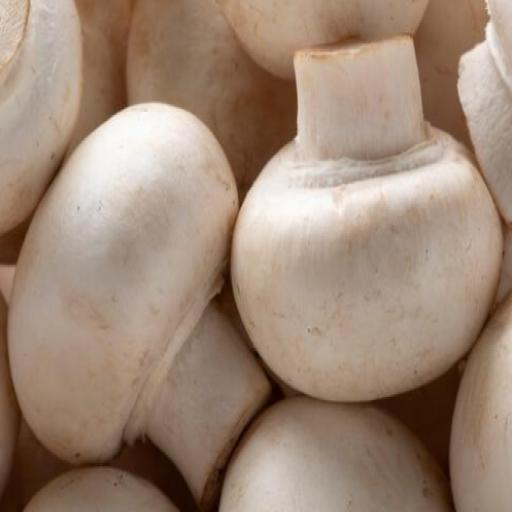mushroom: (231, 34, 506, 400), (7, 101, 269, 483)
